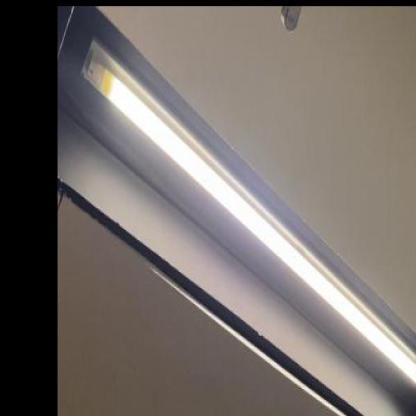light_on: (76, 35, 415, 404)
